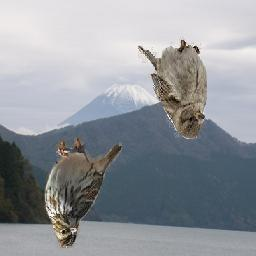Sparrow: (42, 136, 123, 248), (139, 31, 208, 139)
